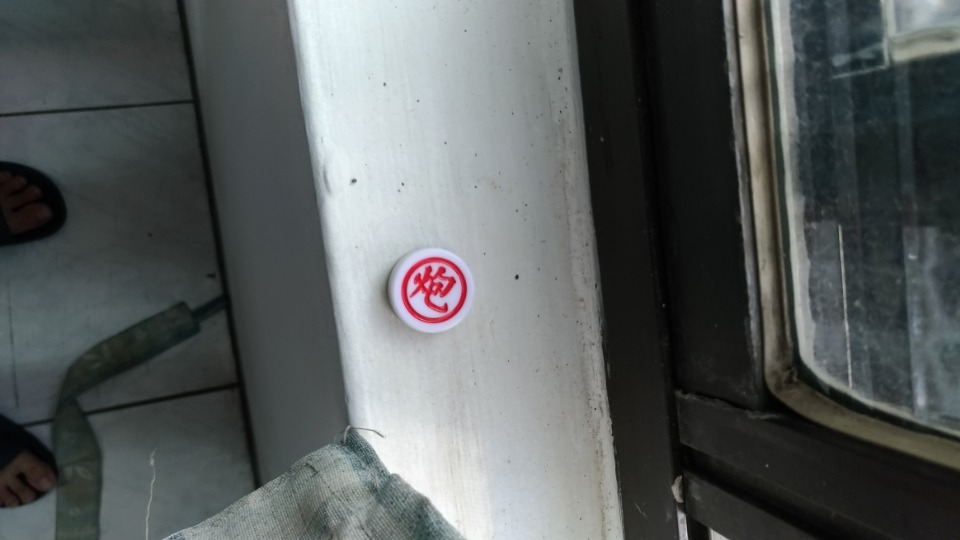r-cannon: (372, 246, 482, 341)
